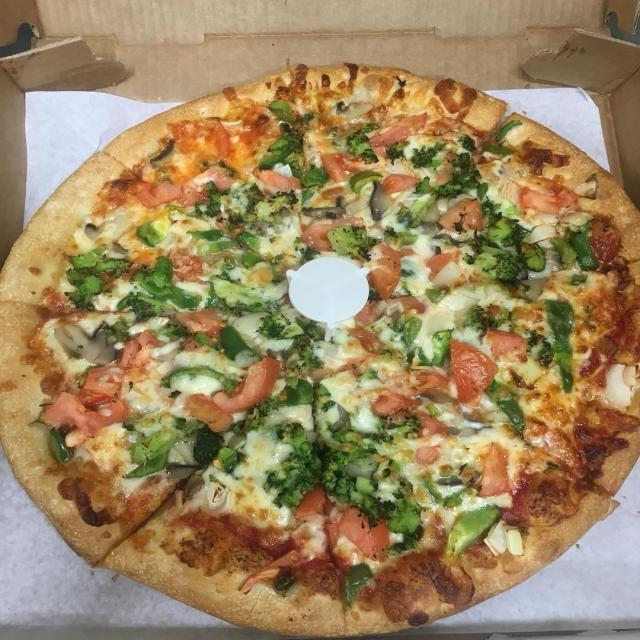pizza: (3, 65, 638, 635)
tomatoes: (40, 390, 131, 447), (214, 359, 278, 413), (338, 500, 389, 564), (450, 336, 496, 403), (503, 173, 578, 213), (117, 171, 203, 201), (180, 389, 237, 432), (480, 438, 514, 501), (368, 246, 402, 302), (413, 414, 447, 466), (487, 324, 529, 364), (368, 385, 422, 415), (176, 307, 224, 340), (116, 334, 154, 375), (437, 198, 482, 232), (405, 362, 451, 395), (348, 311, 382, 354), (367, 117, 409, 148), (251, 168, 299, 192), (424, 252, 462, 282), (86, 364, 120, 396), (295, 488, 329, 518), (320, 152, 354, 180), (302, 219, 330, 251), (383, 172, 418, 195), (202, 168, 240, 188)
